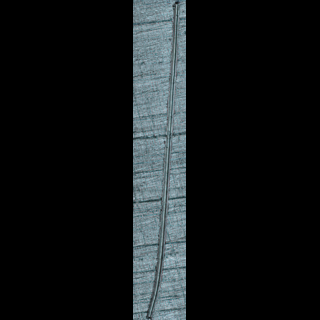d: (143, 0, 181, 319)
